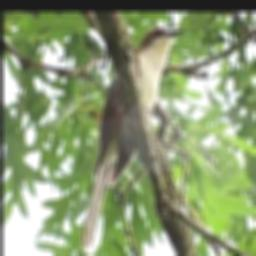Cuckoo: (81, 29, 184, 250)
